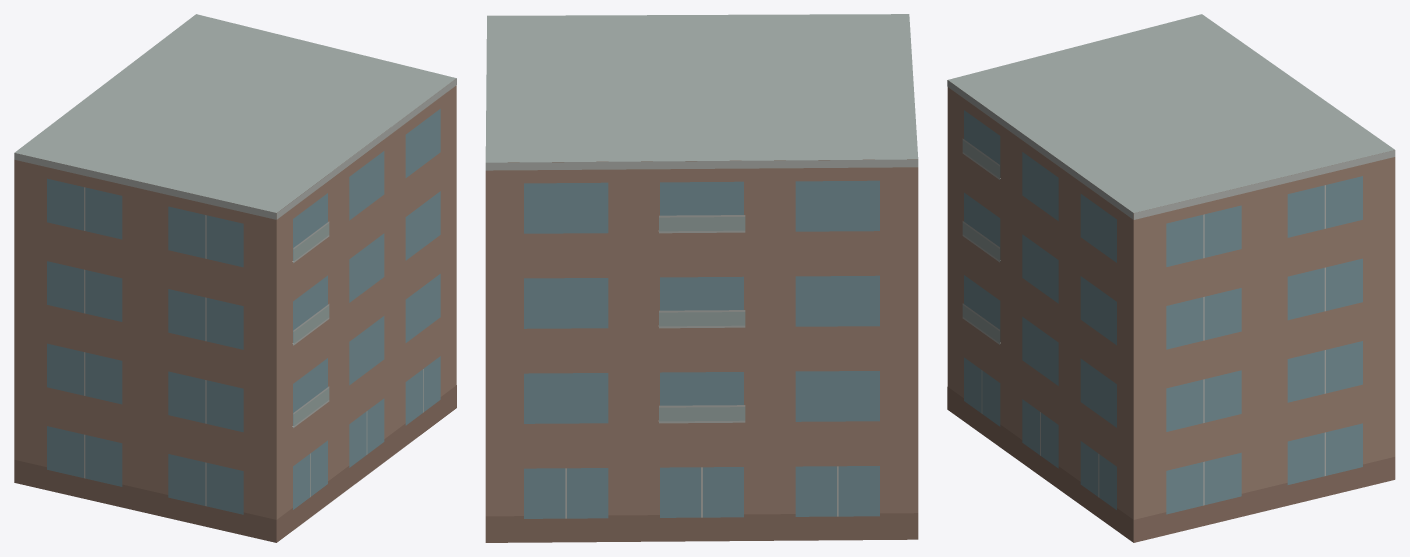
The model's file is survey-upis-32713755.glb.
3 views of the same model, side by side, from view 1: azimuth 30°, elevation 25°; view 2: azimuth 150°, elevation 25°; view 3: azimuth 270°, elevation 25° (orthographic). The views are drawn at different scales.
Parts seen in each view (by area): view 1: survey-upis-32713755.tmp; view 2: survey-upis-32713755.tmp; view 3: survey-upis-32713755.tmp.
Boxes of the visible parts, bbox=[...] form: survey-upis-32713755.tmp: bbox=[14, 14, 456, 542]; survey-upis-32713755.tmp: bbox=[485, 14, 918, 542]; survey-upis-32713755.tmp: bbox=[947, 14, 1395, 542].
Bounding box in the file's own units: 15.16 × 11.7 × 14.41.
